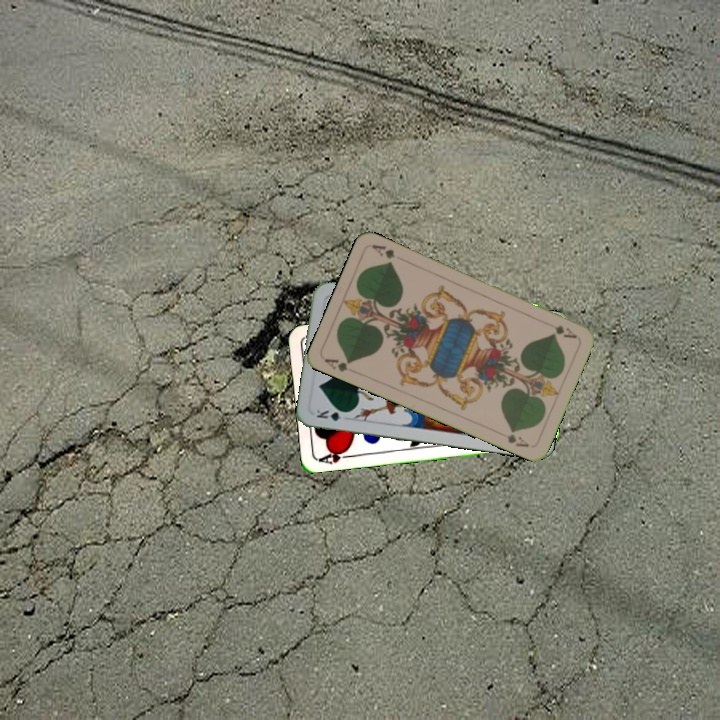GA: (542, 318, 579, 341), (320, 354, 354, 375)
GK: (312, 405, 352, 424)
HA: (315, 445, 356, 467)
